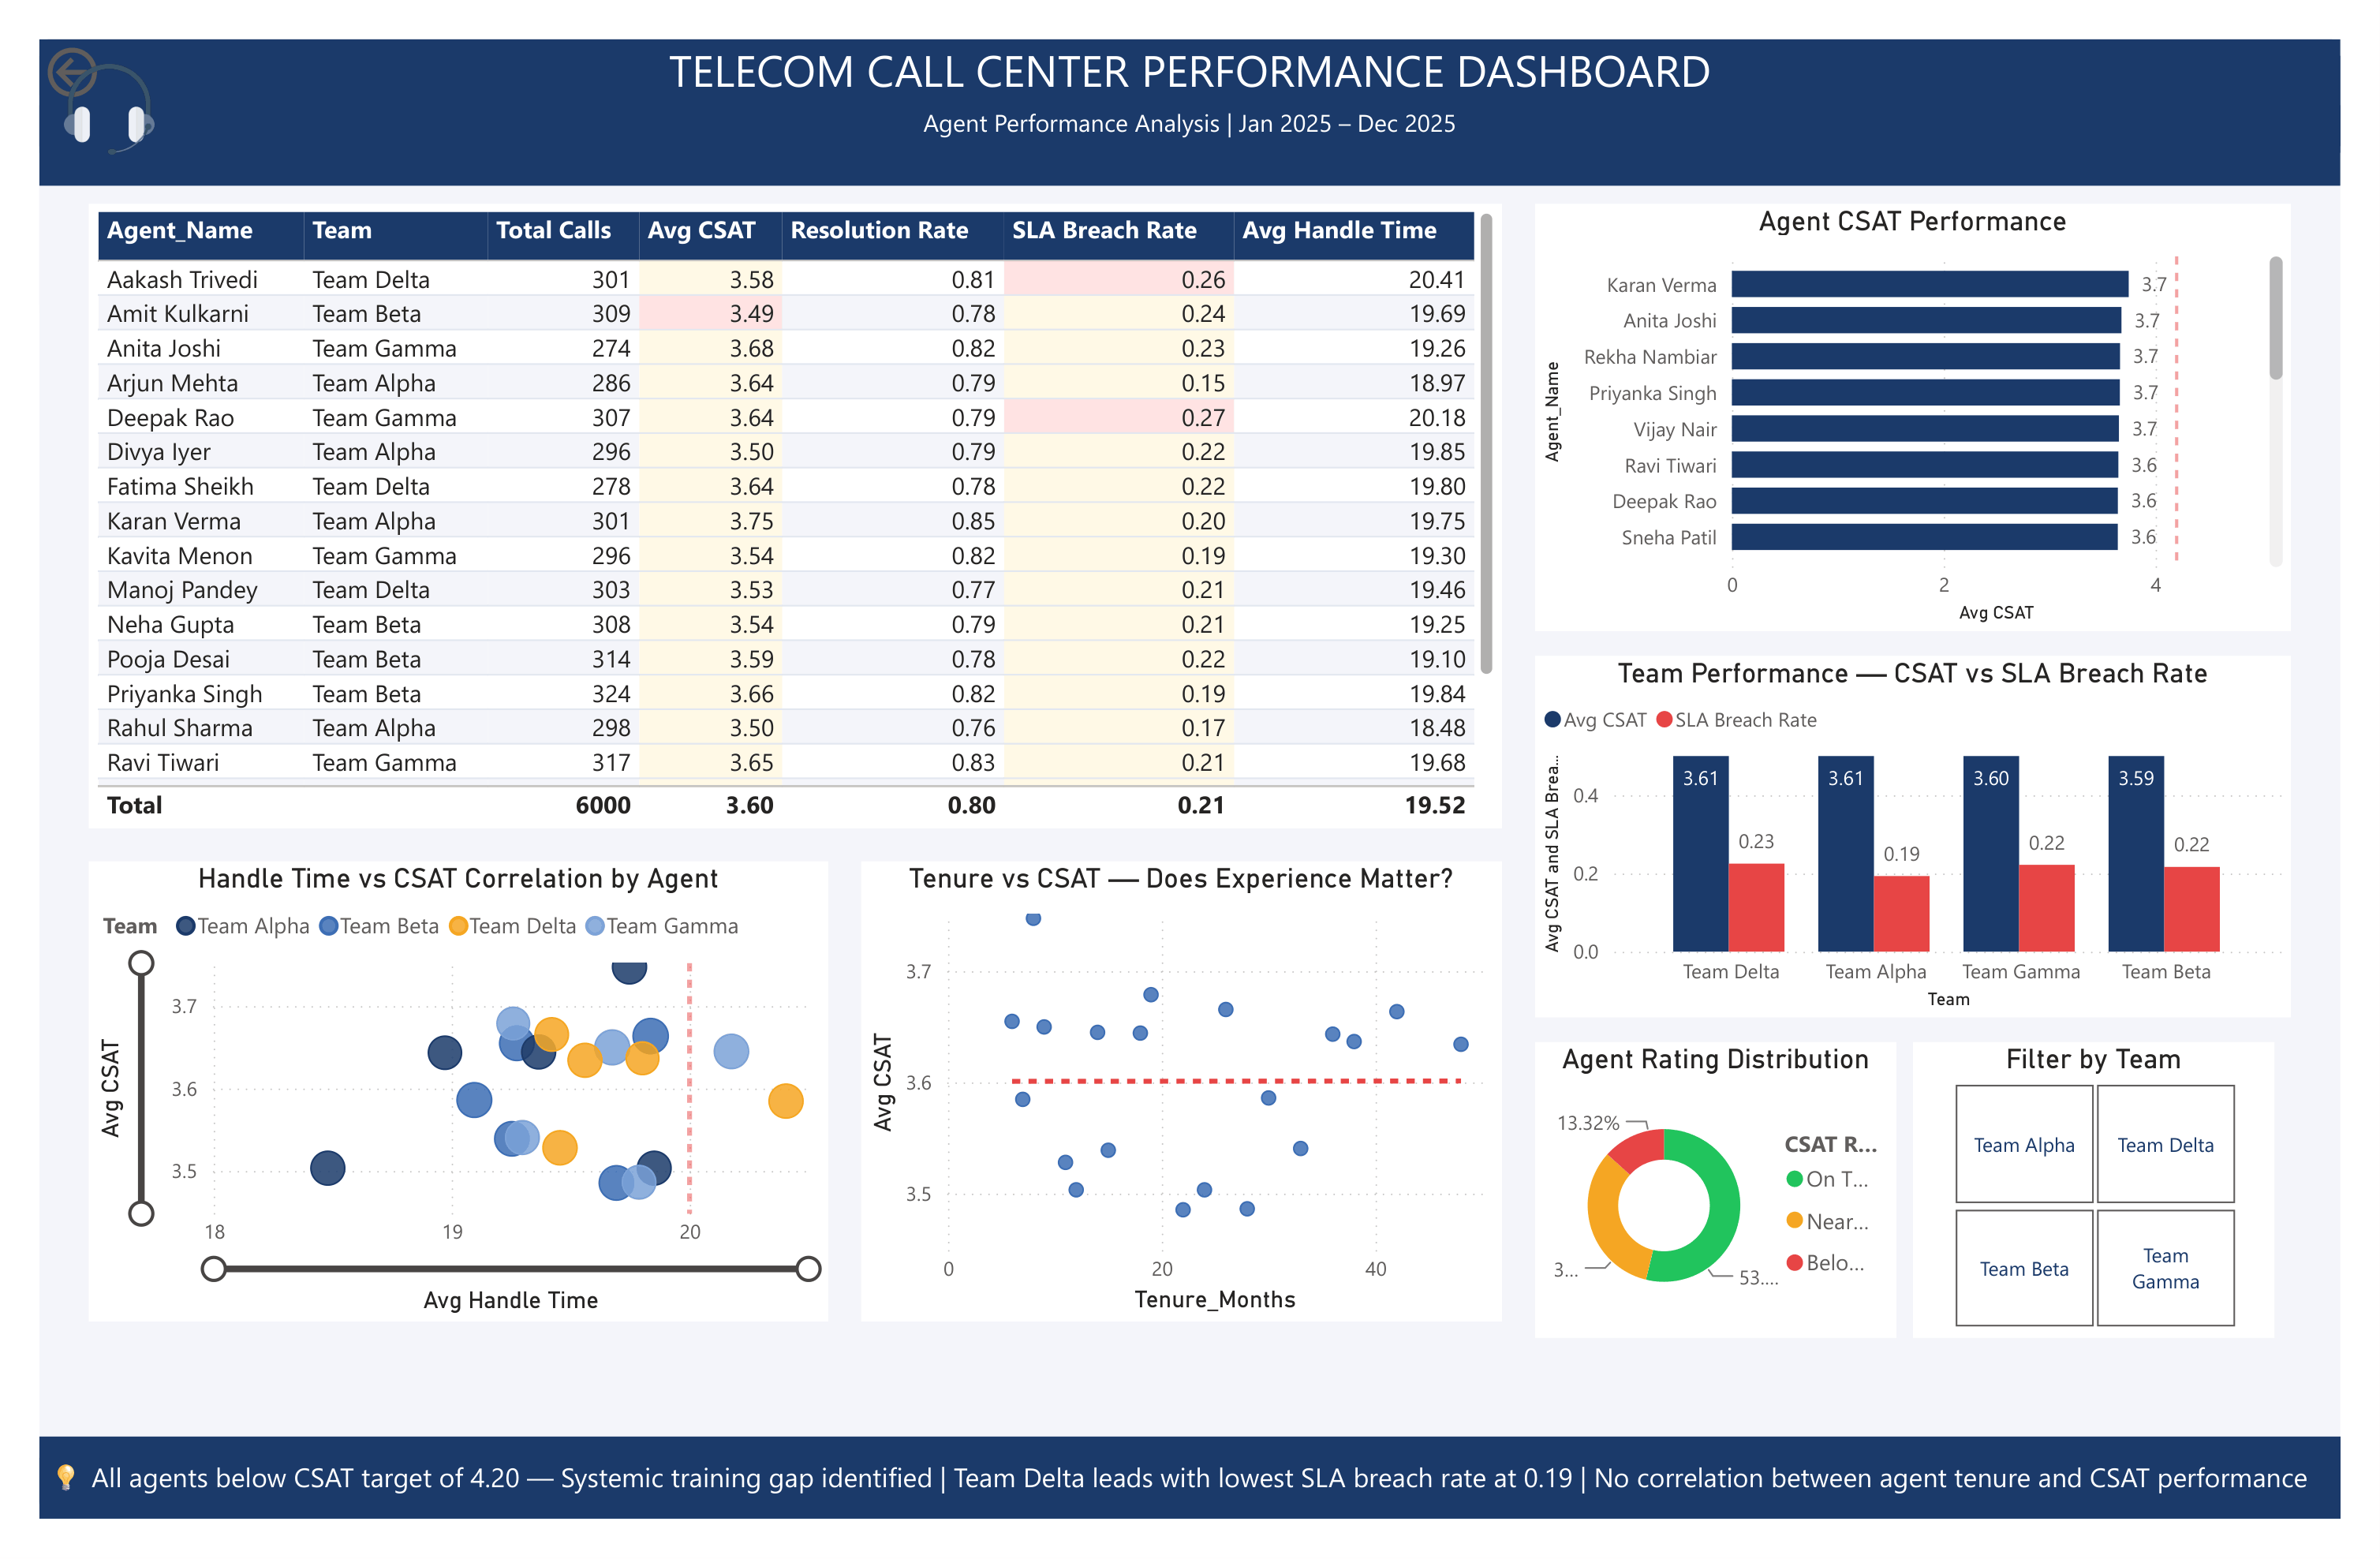

The dashboard page shown, as its layout file describes it:
{"tool":"powerbi","page":{"name":"Agent Performance","canvas":[1400,900],"ordinal":1},"visuals":[{"type":"shape","box":[0,10,1400.1,79.5],"z":0},{"type":"textbox","title":"TELECOM CALL CENTER PERFORMANCE DASHBOARD","box":[0,0,1400.1,39.7],"z":1000},{"type":"textbox","title":"Agent Performance Analysis | Jan 2025 – Dec 2025","box":[0,39.7,1400.1,29],"z":2000},{"type":"shape","box":[0,850.2,1401,49.8],"z":3000},{"type":"textbox","title":"💡  All agents below CSAT target of 4.20 — Systemic training gap identified  |  Team Delta leads with lowest SLA breach rate at 0.19  |  No correlation between agent tenure and CSAT performance","box":[0,862.6,1399.5,28.7],"z":4000},{"type":"tableEx","fields":{"Values":["Agents. Agent_Name ","Agents. Team ","Calls.Total Calls","Calls.Avg CSAT","Calls.Resolution Rate","Calls.SLA Breach Rate","Calls.Avg Handle Time"]},"box":[30,100,860,380],"z":5000},{"type":"actionButton","box":[0,0,100,40],"z":6000},{"type":"clusteredBarChart","title":"Agent CSAT Performance","fields":{"Category":["Agents. Agent_Name "],"Y":["Calls.Avg CSAT"]},"box":[910,100,460,260],"z":6001},{"type":"clusteredColumnChart","title":"Team Performance — CSAT vs SLA Breach Rate","fields":{"Category":["Agents. Team "],"Y":["Calls.Avg CSAT","Calls.SLA Breach Rate"]},"box":[910,375,460,220],"z":6002},{"type":"scatterChart","title":"Handle Time vs CSAT Correlation by Agent","fields":{"X":["Calls.Avg Handle Time"],"Y":["Calls.Avg CSAT"],"Series":["Agents. Team "],"Size":["Calls.Total Calls"],"Category":["Agents. Agent_Name "]},"box":[30,500,450,280],"z":6003},{"type":"scatterChart","title":"Tenure vs CSAT — Does Experience Matter?","fields":{"X":["Agents. Tenure_Months"],"Y":["Calls.Avg CSAT"]},"box":[500,500,390,280],"z":6004},{"type":"donutChart","title":"Agent Rating Distribution","fields":{"Y":["Calls.Total Calls"],"Category":["Calls.CSAT Rating"]},"box":[910,610,220,180],"z":6005},{"type":"slicer","title":"Filter by Team","fields":{"Values":["Agents. Team "]},"box":[1140,610,220,180],"z":6006},{"type":"image","box":[15,15,55,55],"z":6007}]}

Visuals, with their boxes on the page's 1400x900 design canvas (x1, y1, x2, y2). These are canvas units, not pixel positions in the 2380x1559 screenshot, which may show the page scaled, cropped or inside an application window:
shape: left=0, top=10, right=1400, bottom=90
"TELECOM CALL CENTER PERFORMANCE DASHBOARD" textbox: left=0, top=0, right=1400, bottom=40
"Agent Performance Analysis | Jan 2025 – Dec 2025" textbox: left=0, top=40, right=1400, bottom=69
shape: left=0, top=850, right=1401, bottom=900
"💡  All agents below CSAT target of 4.20 — Systemic training gap identified  |  Team Delta leads with lowest SLA breach rate at 0.19  |  No correlation between agent tenure and CSAT performance" textbox: left=0, top=863, right=1400, bottom=891
tableEx - Agents. Agent_Name  x Agents. Team : left=30, top=100, right=890, bottom=480
actionButton: left=0, top=0, right=100, bottom=40
"Agent CSAT Performance" clusteredBarChart: left=910, top=100, right=1370, bottom=360
"Team Performance — CSAT vs SLA Breach Rate" clusteredColumnChart: left=910, top=375, right=1370, bottom=595
"Handle Time vs CSAT Correlation by Agent" scatterChart: left=30, top=500, right=480, bottom=780
"Tenure vs CSAT — Does Experience Matter?" scatterChart: left=500, top=500, right=890, bottom=780
"Agent Rating Distribution" donutChart: left=910, top=610, right=1130, bottom=790
"Filter by Team" slicer: left=1140, top=610, right=1360, bottom=790
image: left=15, top=15, right=70, bottom=70
